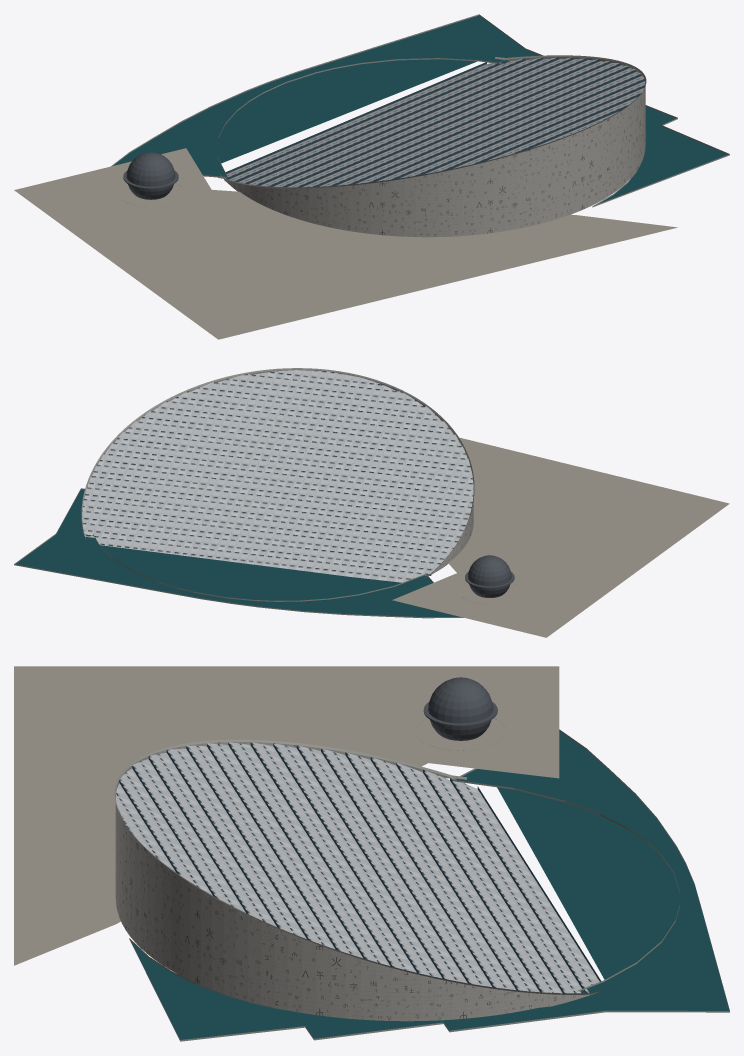
File: library.glb
3 renders of one model, top to bottom at view 1: azimuth 30°, elevation 25°; view 2: azimuth 150°, elevation 25°; view 3: azimuth 270°, elevation 25°, orthographic. The views are drawn at different scales.
Parts seen in each view (by area): view 1: BibliothecaAlexandrina; view 2: BibliothecaAlexandrina; view 3: BibliothecaAlexandrina.
Boxes of the visible parts, x1=… form: BibliothecaAlexandrina: x1=14, y1=14, x2=729, y2=339; BibliothecaAlexandrina: x1=14, y1=368, x2=729, y2=637; BibliothecaAlexandrina: x1=14, y1=666, x2=729, y2=1041.
Size of the model in its own units: 243 by 35.62 by 197.
3 materials, 3 textured.
